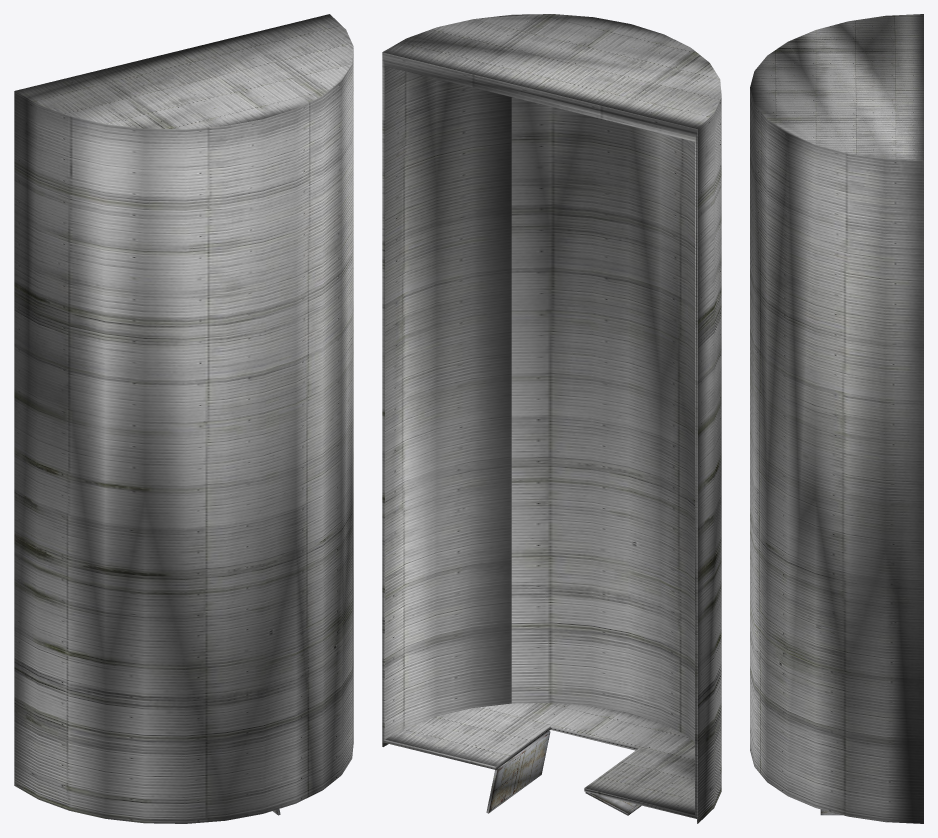
Rendered from hangar.gltf.
3 views of the same model, side by side, from view 1: azimuth 30°, elevation 25°; view 2: azimuth 150°, elevation 25°; view 3: azimuth 270°, elevation 25° (orthographic). The views are drawn at different scales.
Visible parts, largest first — view 1: node-0; view 2: node-0; view 3: node-0.
Part boxes in pixels (left/top/right/bottom): node-0: left=14, top=14, right=353, bottom=823; node-0: left=382, top=14, right=721, bottom=823; node-0: left=750, top=14, right=923, bottom=823.
Size of the model in its own units: 14265 by 31798 by 7133.
Materials: 1 (1 with a texture image).
